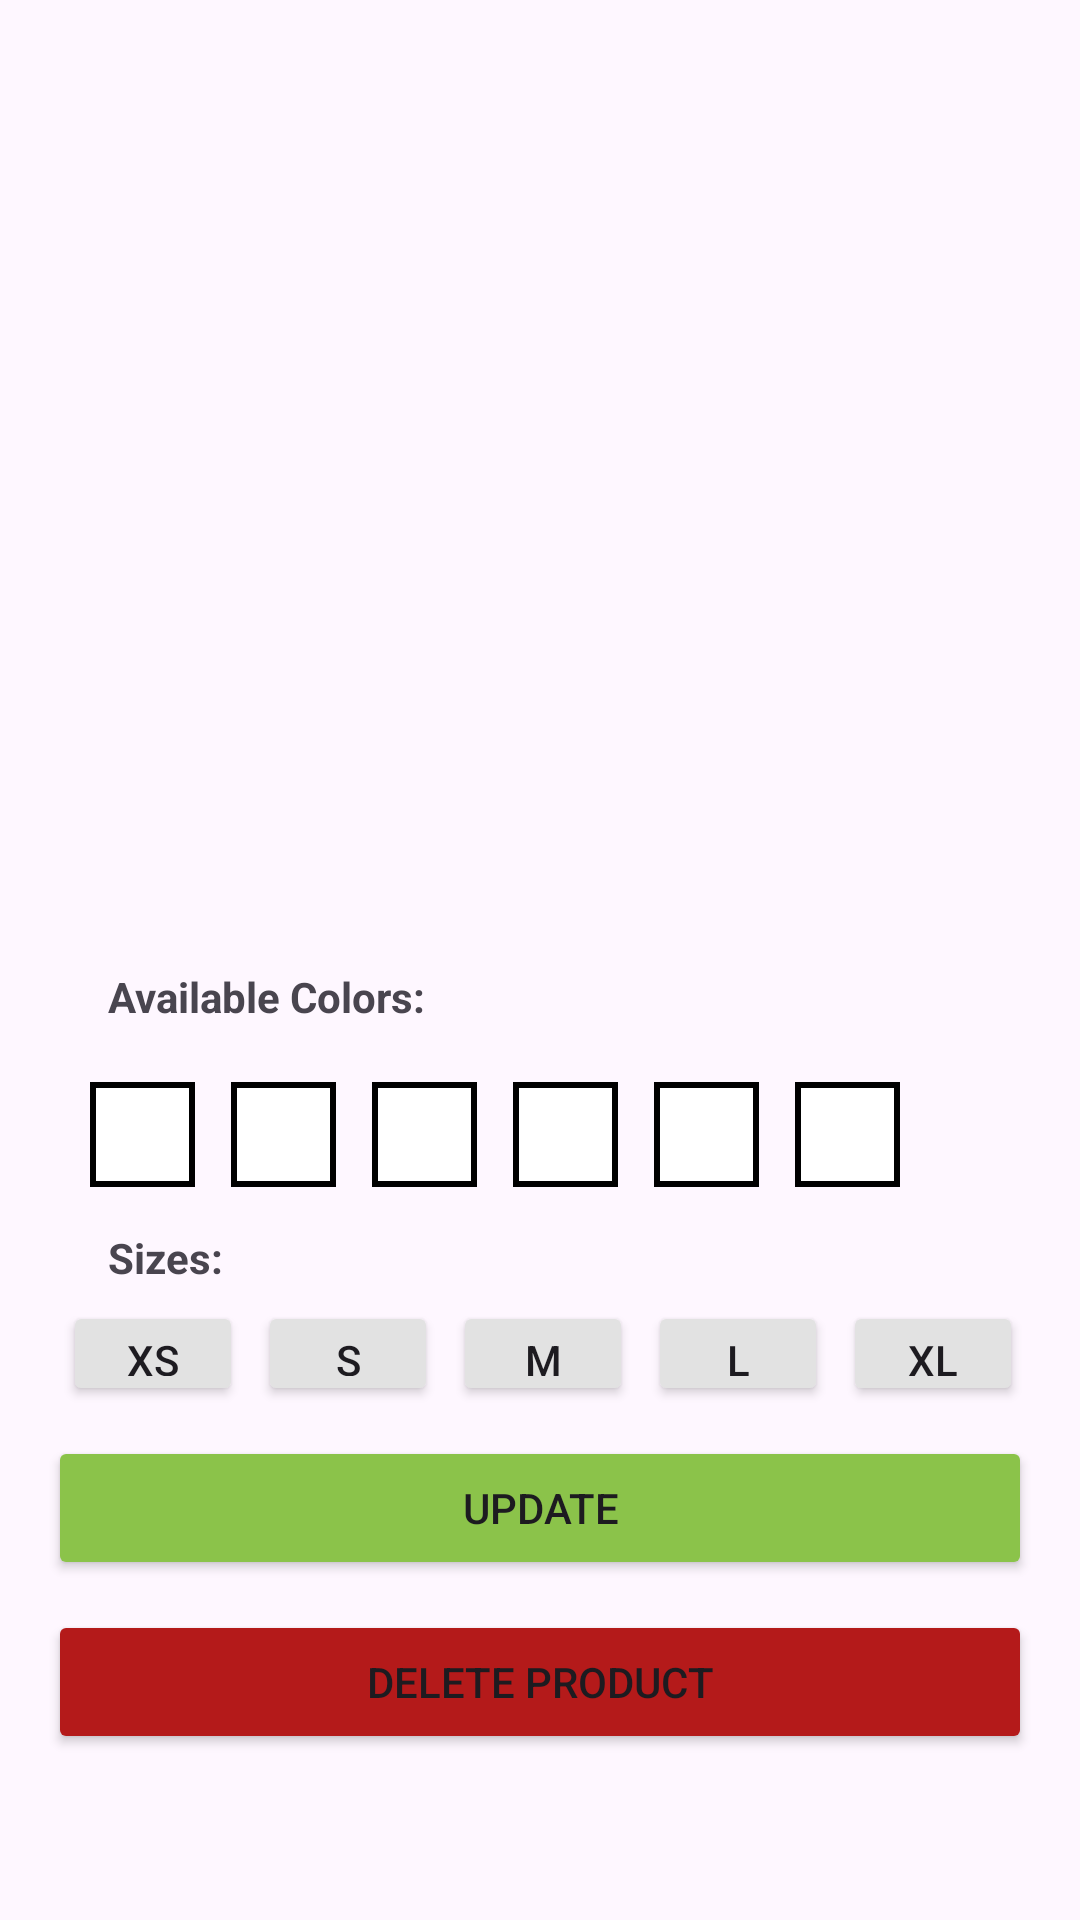

Locate icon controls on the screen. Image size 1080w x 1920h, boxes as (x1, y1, x2, y2).
square: (90, 1082, 195, 1187), (231, 1082, 336, 1187), (372, 1082, 477, 1187), (513, 1082, 618, 1187), (654, 1082, 759, 1187), (795, 1082, 900, 1187)
